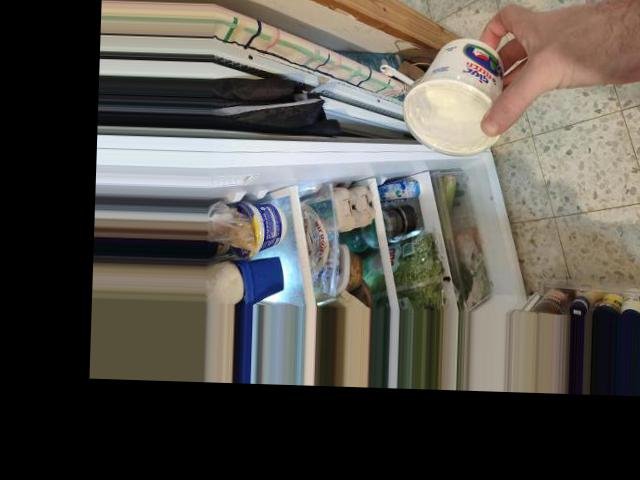cotage: (406, 42, 521, 160)
